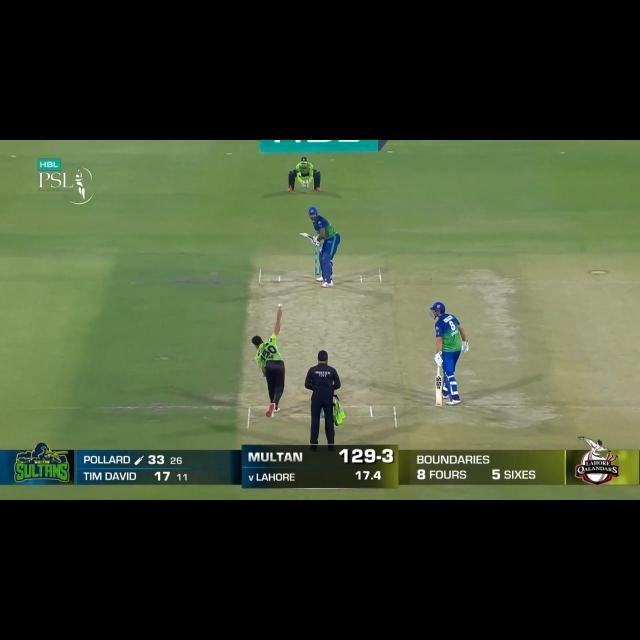bat: (434, 376, 443, 407), (297, 232, 314, 240)
toe: (434, 400, 445, 408), (297, 232, 306, 237)
